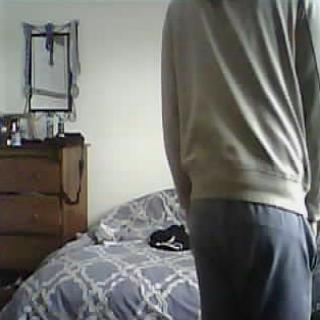Blue Sweatpants: (175, 202, 320, 320)
Yellow Hoodie: (162, 0, 320, 207)
